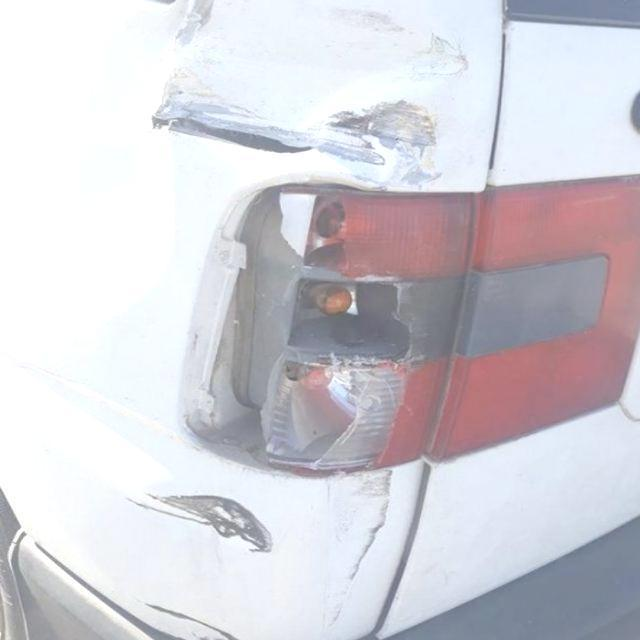minor: (331, 606, 345, 627)
moderate: (42, 3, 489, 319), (205, 186, 470, 476), (120, 489, 274, 565), (351, 472, 392, 578), (140, 600, 239, 640)
